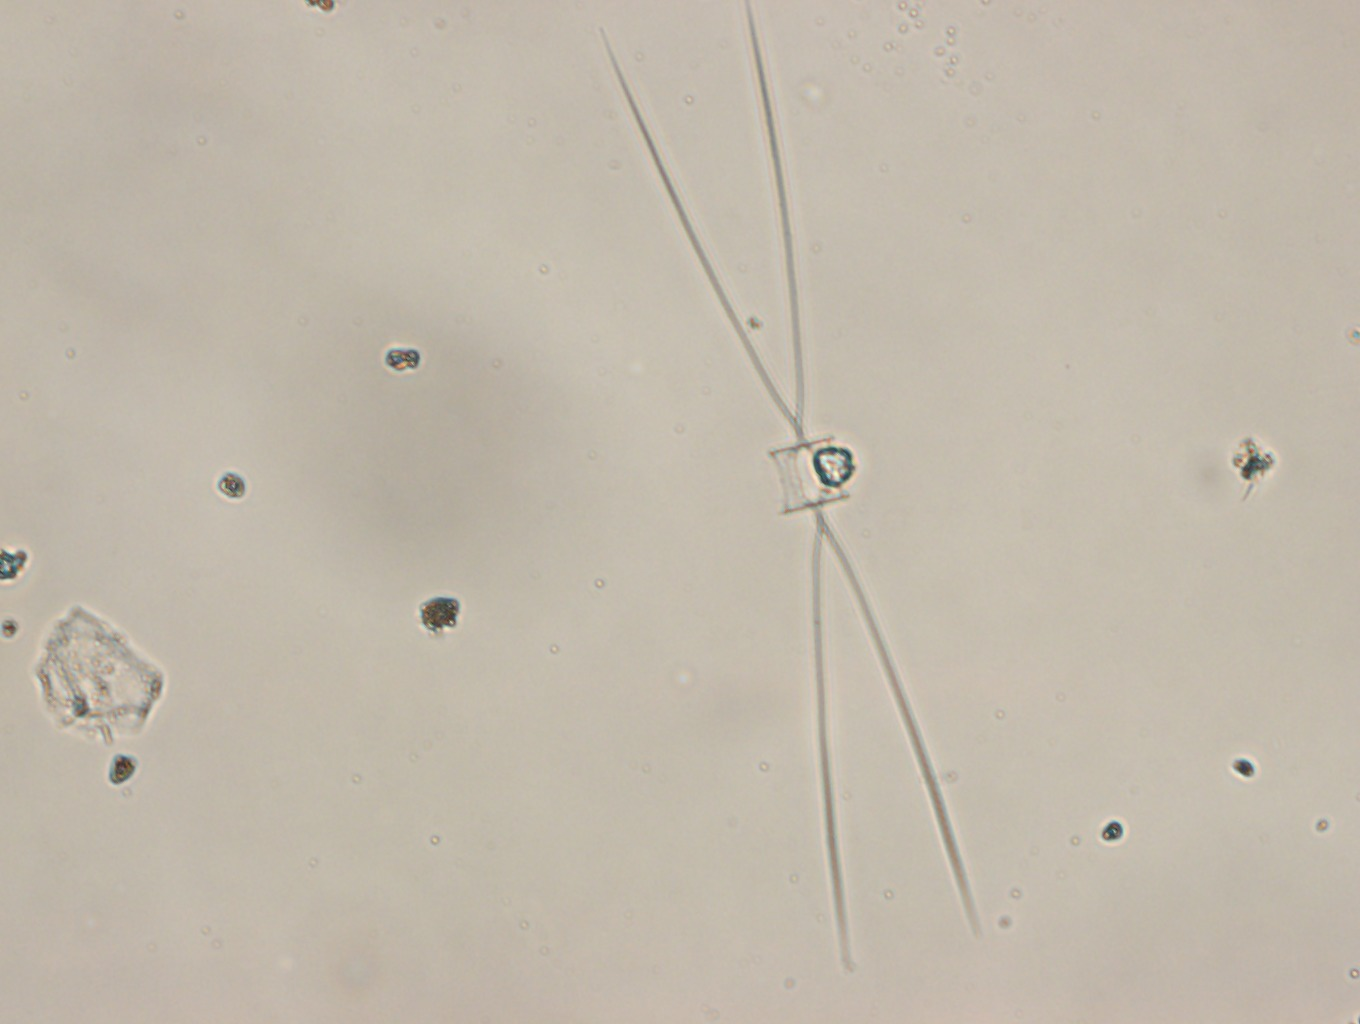chaetoceros: (599, 1, 983, 975)
